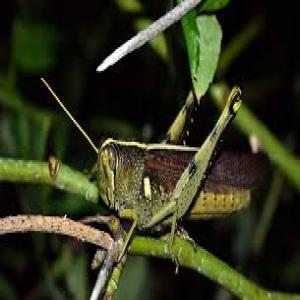locust: (66, 106, 275, 243)
